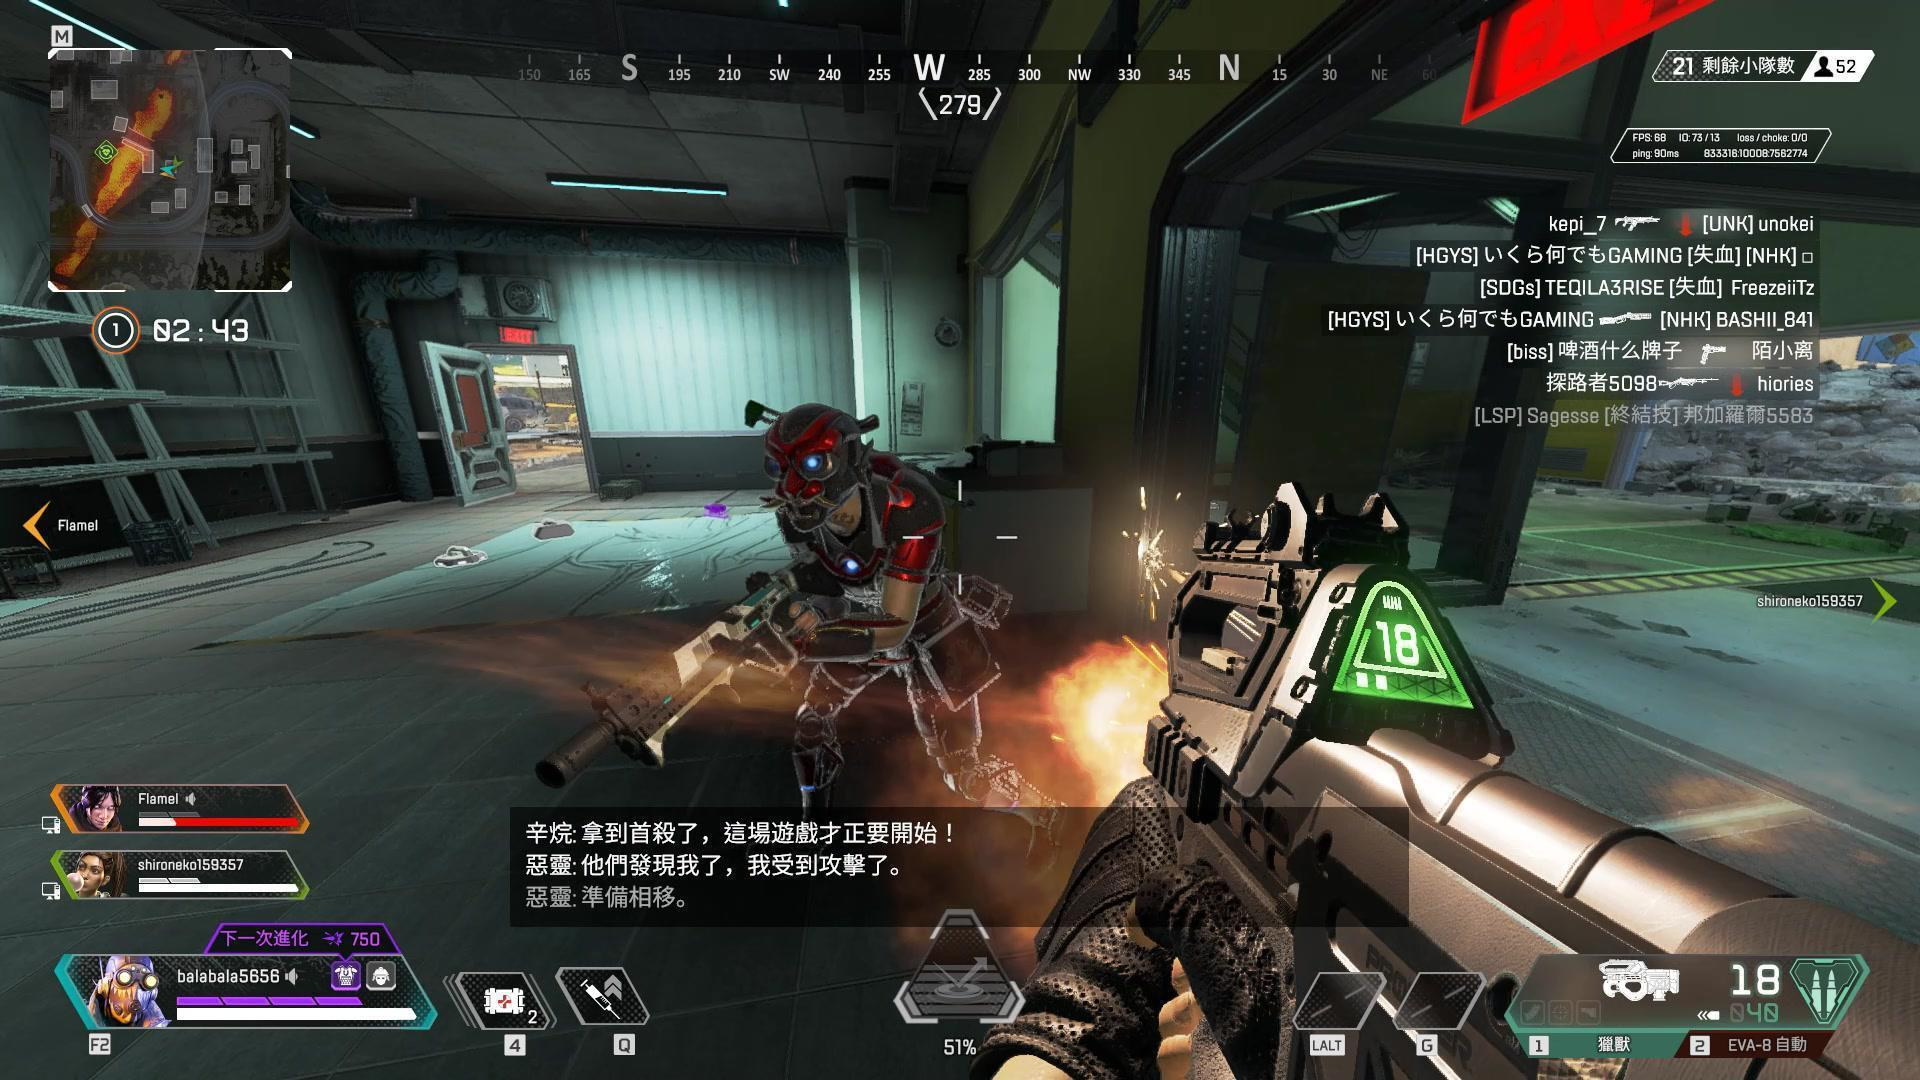avatar: (756, 401, 1005, 810)
